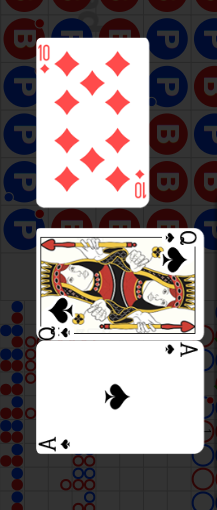10D: (39, 43, 52, 75), (134, 168, 147, 200)
AS: (39, 434, 74, 452)
